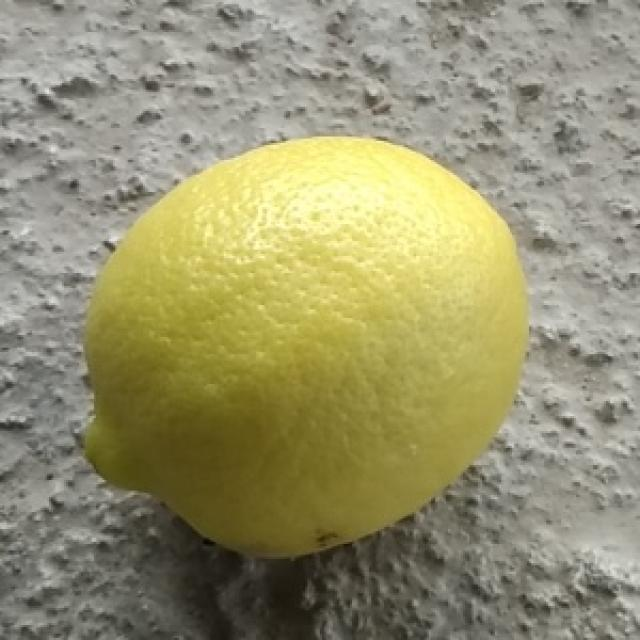Ripe: (67, 132, 537, 567)
